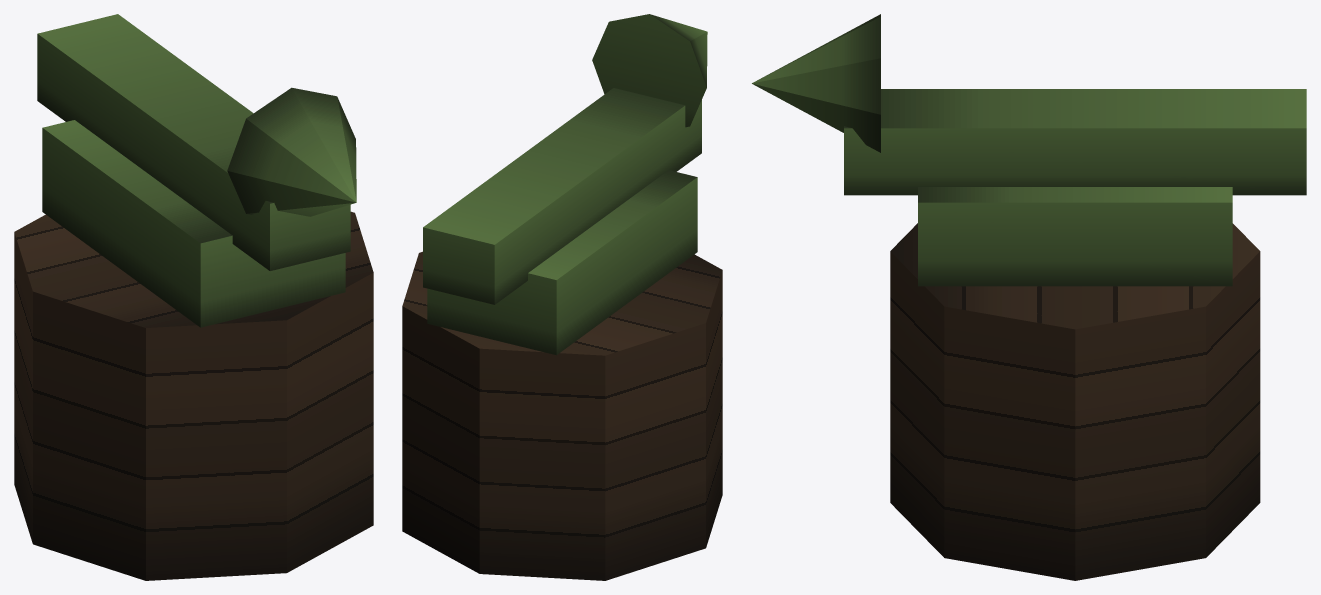
The model's file is anvil.gltf.
3 renders of one model, left to right at view 1: azimuth 30°, elevation 25°; view 2: azimuth 150°, elevation 25°; view 3: azimuth 270°, elevation 25°, orthographic. The views are drawn at different scales.
Parts seen in each view (by area): view 1: anvil; view 2: anvil; view 3: anvil.
Boxes of the visible parts, x1,y1,x2,y2 form: anvil: (14, 14, 373, 580); anvil: (402, 14, 722, 580); anvil: (752, 14, 1306, 580).
Size of the model in its own units: 0.4 by 0.58 by 0.6.
Materials: 1 (1 with a texture image).
